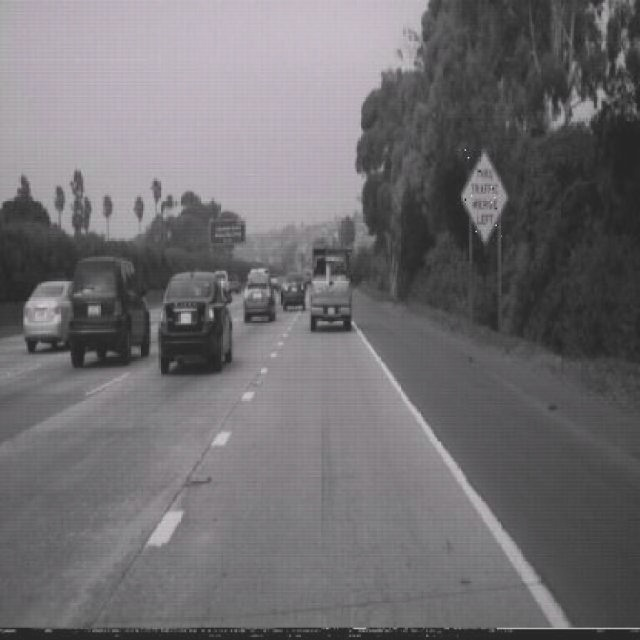thruMergeLeft: (460, 146, 510, 247)
